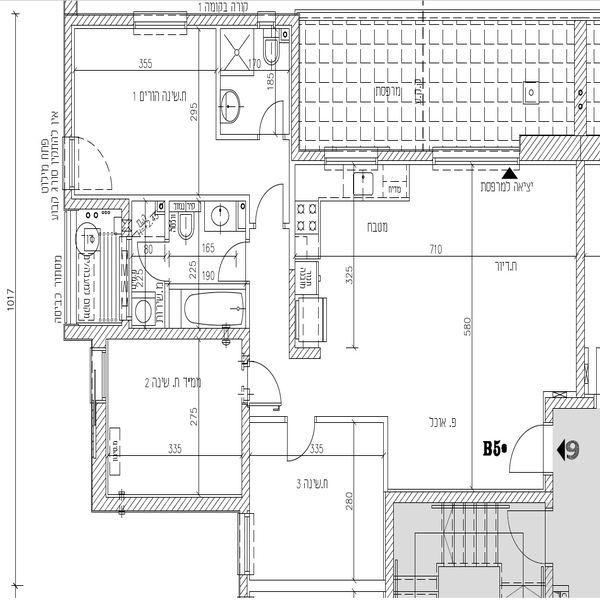door: (497, 416, 557, 483), (60, 138, 120, 198), (508, 509, 563, 574), (242, 361, 295, 408), (277, 412, 324, 464), (251, 176, 291, 234), (137, 234, 176, 282), (254, 92, 294, 137), (217, 236, 247, 288)
room: (291, 145, 600, 505), (60, 4, 292, 205), (86, 321, 257, 510), (239, 404, 398, 597), (57, 194, 252, 345)
wall: (65, 324, 256, 358), (377, 481, 555, 514), (570, 164, 589, 403), (284, 8, 308, 167), (98, 490, 244, 514), (234, 401, 261, 514), (518, 133, 600, 169), (57, 8, 78, 142), (82, 401, 107, 511), (182, 8, 265, 38), (376, 494, 398, 600), (75, 6, 136, 36), (282, 274, 299, 371), (541, 393, 600, 410), (380, 150, 430, 169)
window: (234, 510, 261, 575), (438, 151, 517, 172), (318, 146, 384, 171), (90, 348, 119, 398), (141, 11, 184, 36)
